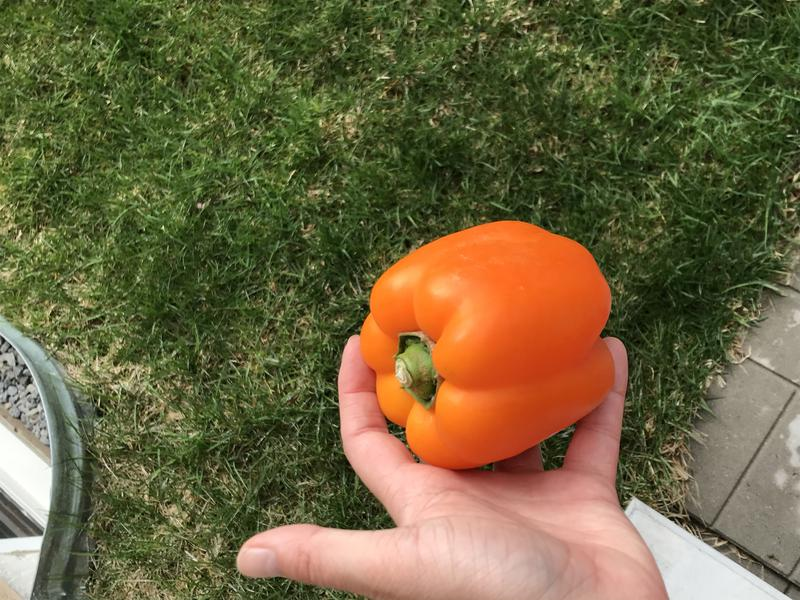orange_pepper: (345, 205, 624, 482)
